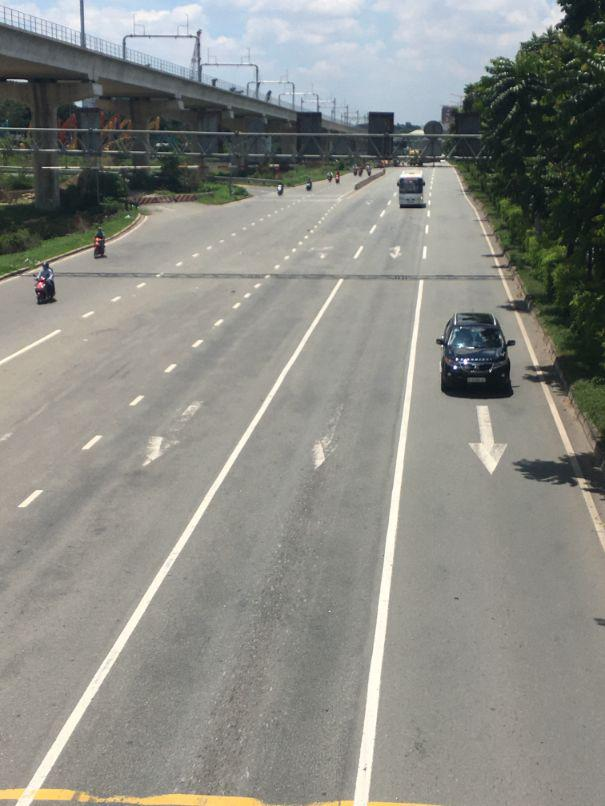bus: (399, 177, 428, 210)
car: (437, 311, 514, 396)
motorbike: (37, 267, 56, 304), (93, 232, 106, 259)
